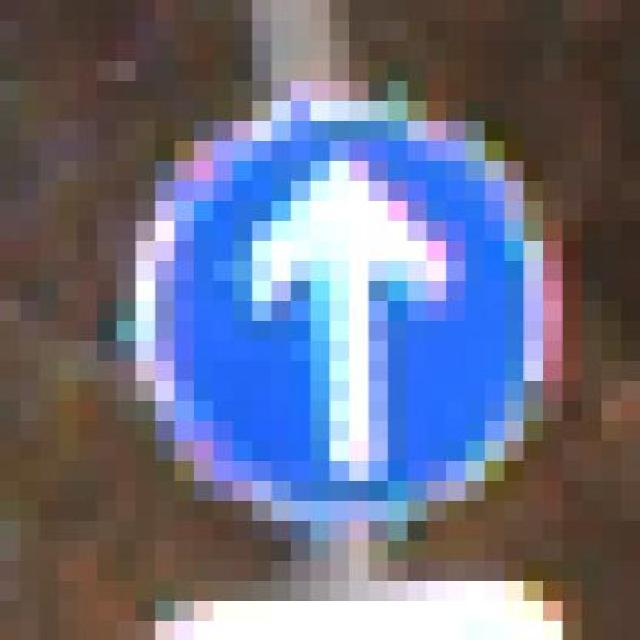Straight Ahead Only: (116, 60, 582, 540)
